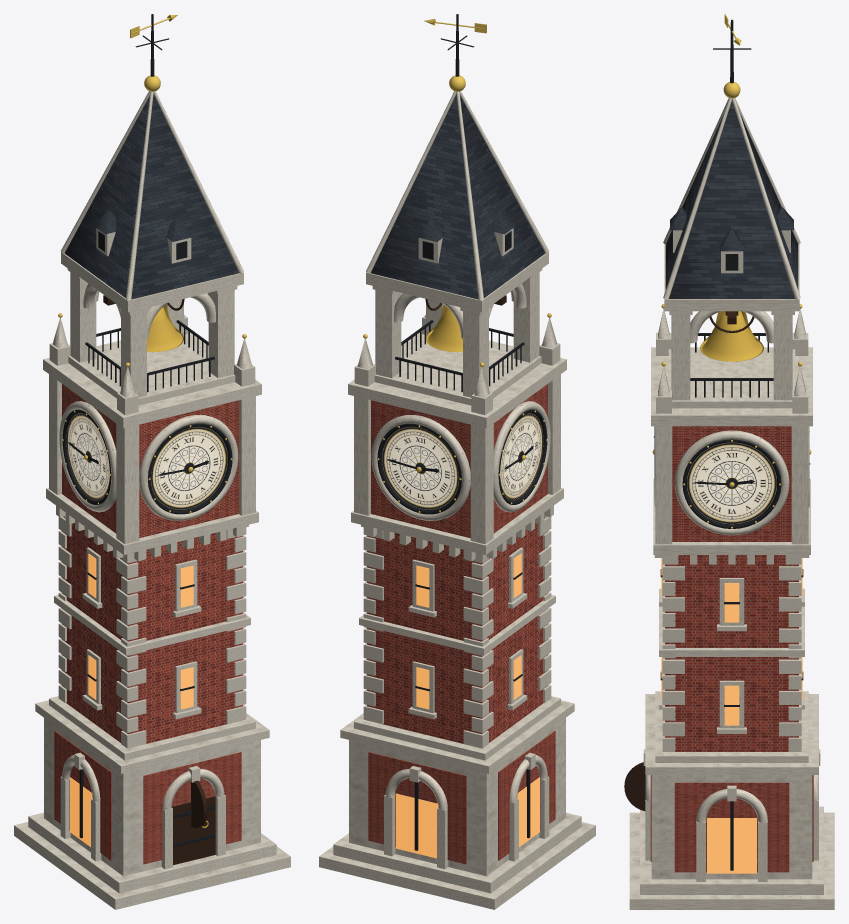
The model's file is victorian_clock_tower.glb.
The picture shows the model from 3 angles, left to right: view 1: azimuth 30°, elevation 25°; view 2: azimuth 150°, elevation 25°; view 3: azimuth 270°, elevation 25°; orthographic projection.
Parts seen in each view (by area): view 1: Victorian_Clock_Tower, Swinging_Brass_Bell; view 2: Victorian_Clock_Tower, Swinging_Brass_Bell; view 3: Victorian_Clock_Tower, Swinging_Brass_Bell.
Part boxes in pixels (x1,y1,x2,y2): Victorian_Clock_Tower: (14,14,290,909); Swinging_Brass_Bell: (147,298,184,352); Victorian_Clock_Tower: (319,14,595,909); Swinging_Brass_Bell: (425,298,462,352); Victorian_Clock_Tower: (624,14,834,909); Swinging_Brass_Bell: (700,311,763,361).
Size of the model in its own units: 3.85 by 17.54 by 3.94.
Materials: 9 (4 with a texture image).
